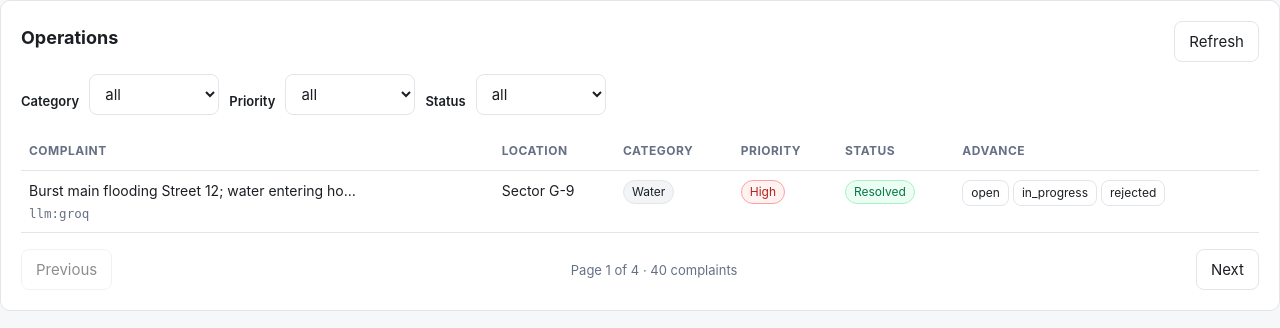
Scenario: DashboardView › sends the chosen filters as query parameters and resets to page 1
This screenshot has width=1280, height=328.
expect the row with test id "complaint-row" is shown: met, box [21, 170, 1259, 233]
Click the button "Next".
click(1227, 270)  # box [1196, 249, 1259, 290]
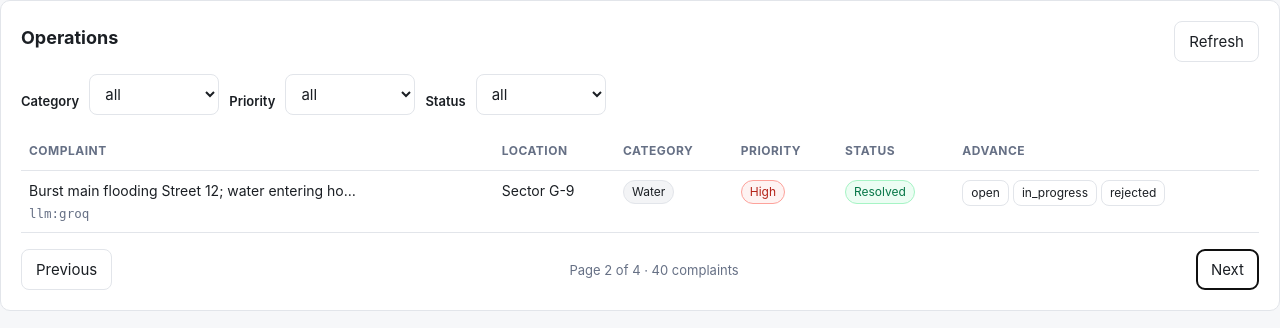
expect the text with test id "page-indicator" shows "Page 2": met, box [570, 260, 739, 280]
Select "water" in the dropdown labelled "Category" at (154, 95), box [89, 74, 219, 115]
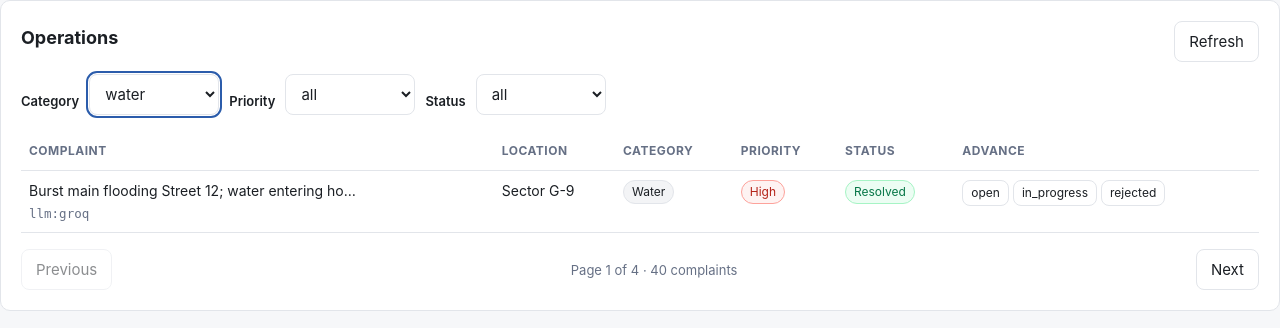
expect the text with test id "page-indicator" shows "Page 1": met, box [571, 260, 737, 280]
